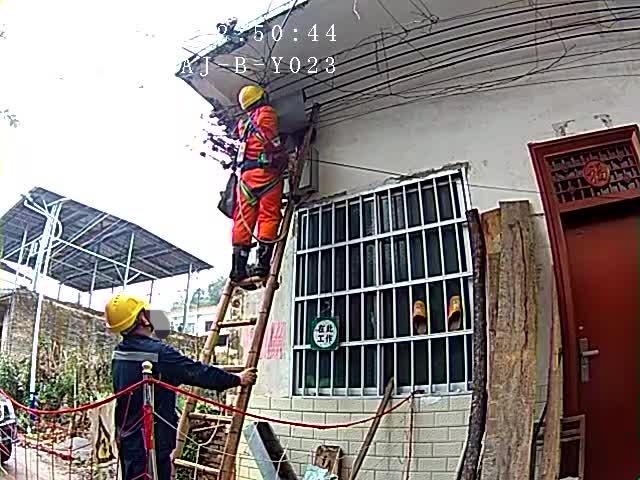halt: (106, 297, 159, 340), (241, 88, 271, 116)
inear: (139, 312, 158, 333)
